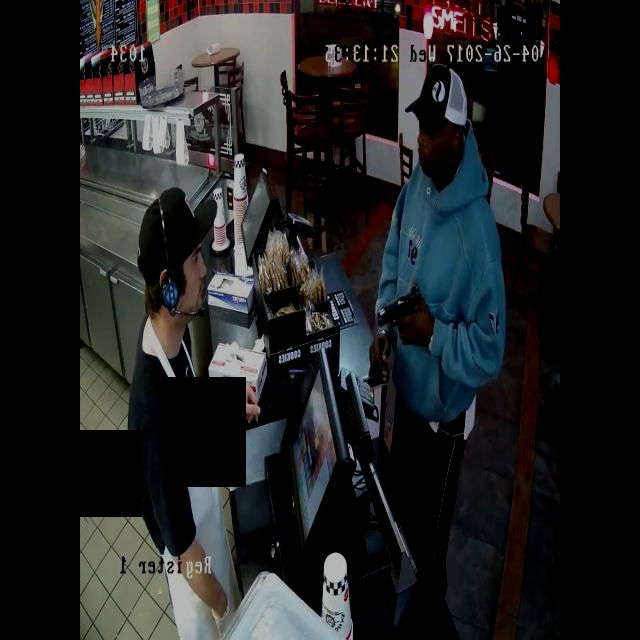gun: (364, 277, 440, 347)
